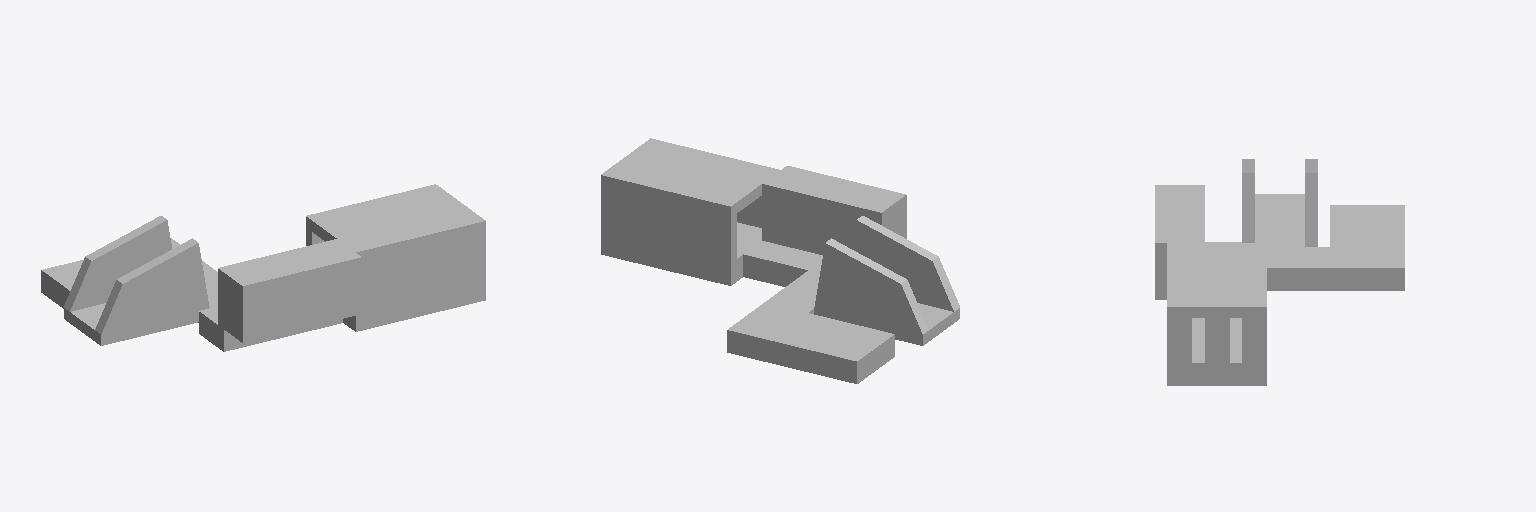
File: testmap.obj
3 views of the same model, side by side, from view 1: azimuth 30°, elevation 25°; view 2: azimuth 150°, elevation 25°; view 3: azimuth 270°, elevation 25° (orthographic).
Parts seen in each view (by area): view 1: entity0_brush0; view 2: entity0_brush0; view 3: entity0_brush0.
Boxes of the visible parts, <box> form: entity0_brush0: <box>41,184,485,351</box>; entity0_brush0: <box>601,138,959,383</box>; entity0_brush0: <box>1155,159,1404,385</box>.
Bounding box in the file's own units: 512 × 128 × 320.